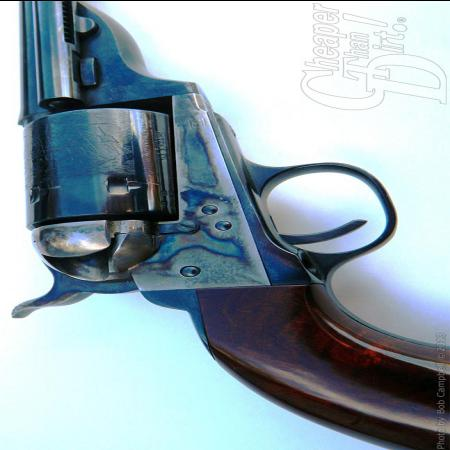Pistol: (11, 1, 449, 450)
